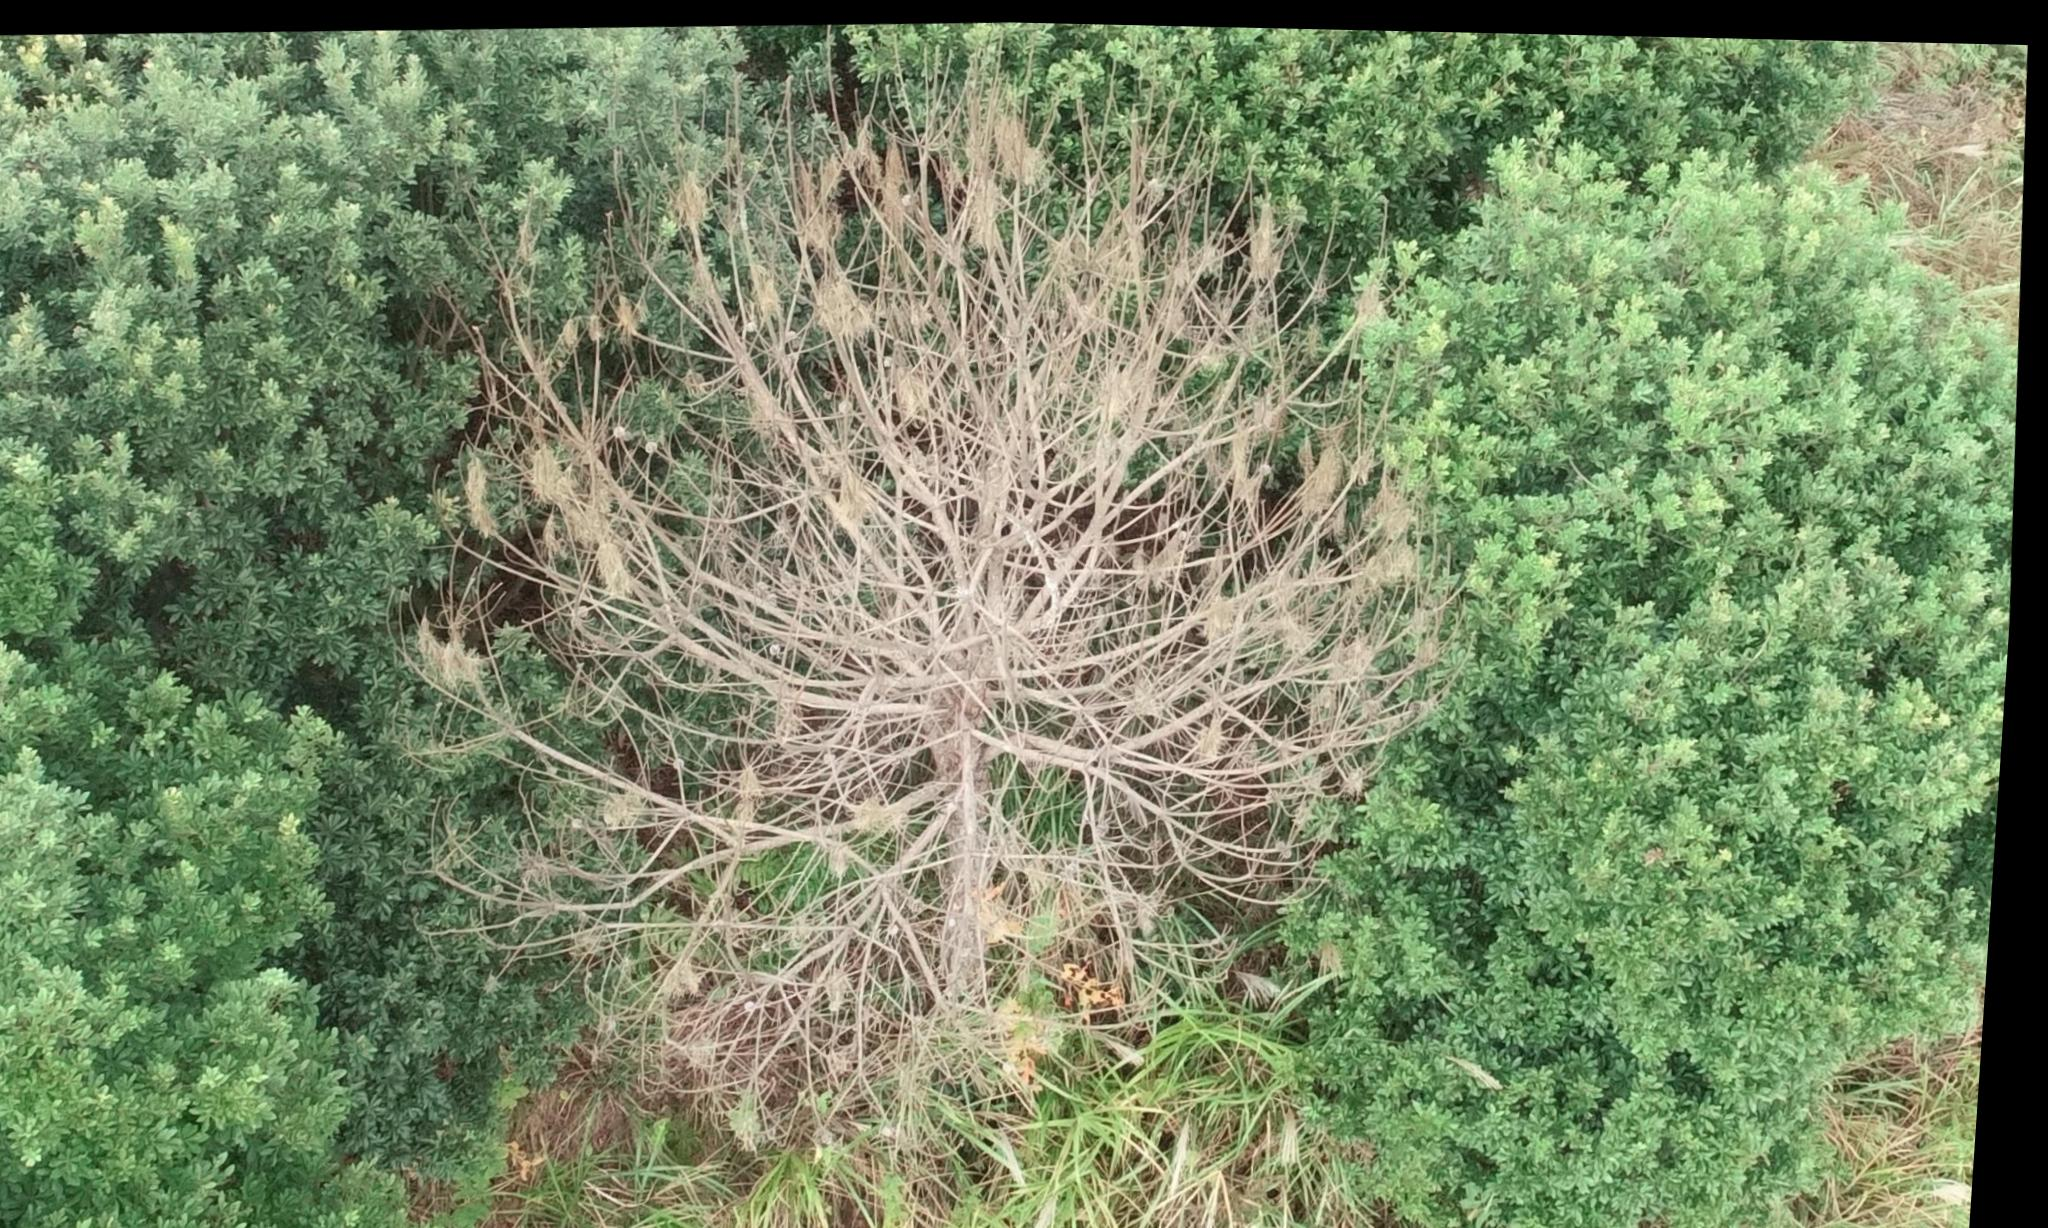dead: (376, 38, 1438, 1161)
